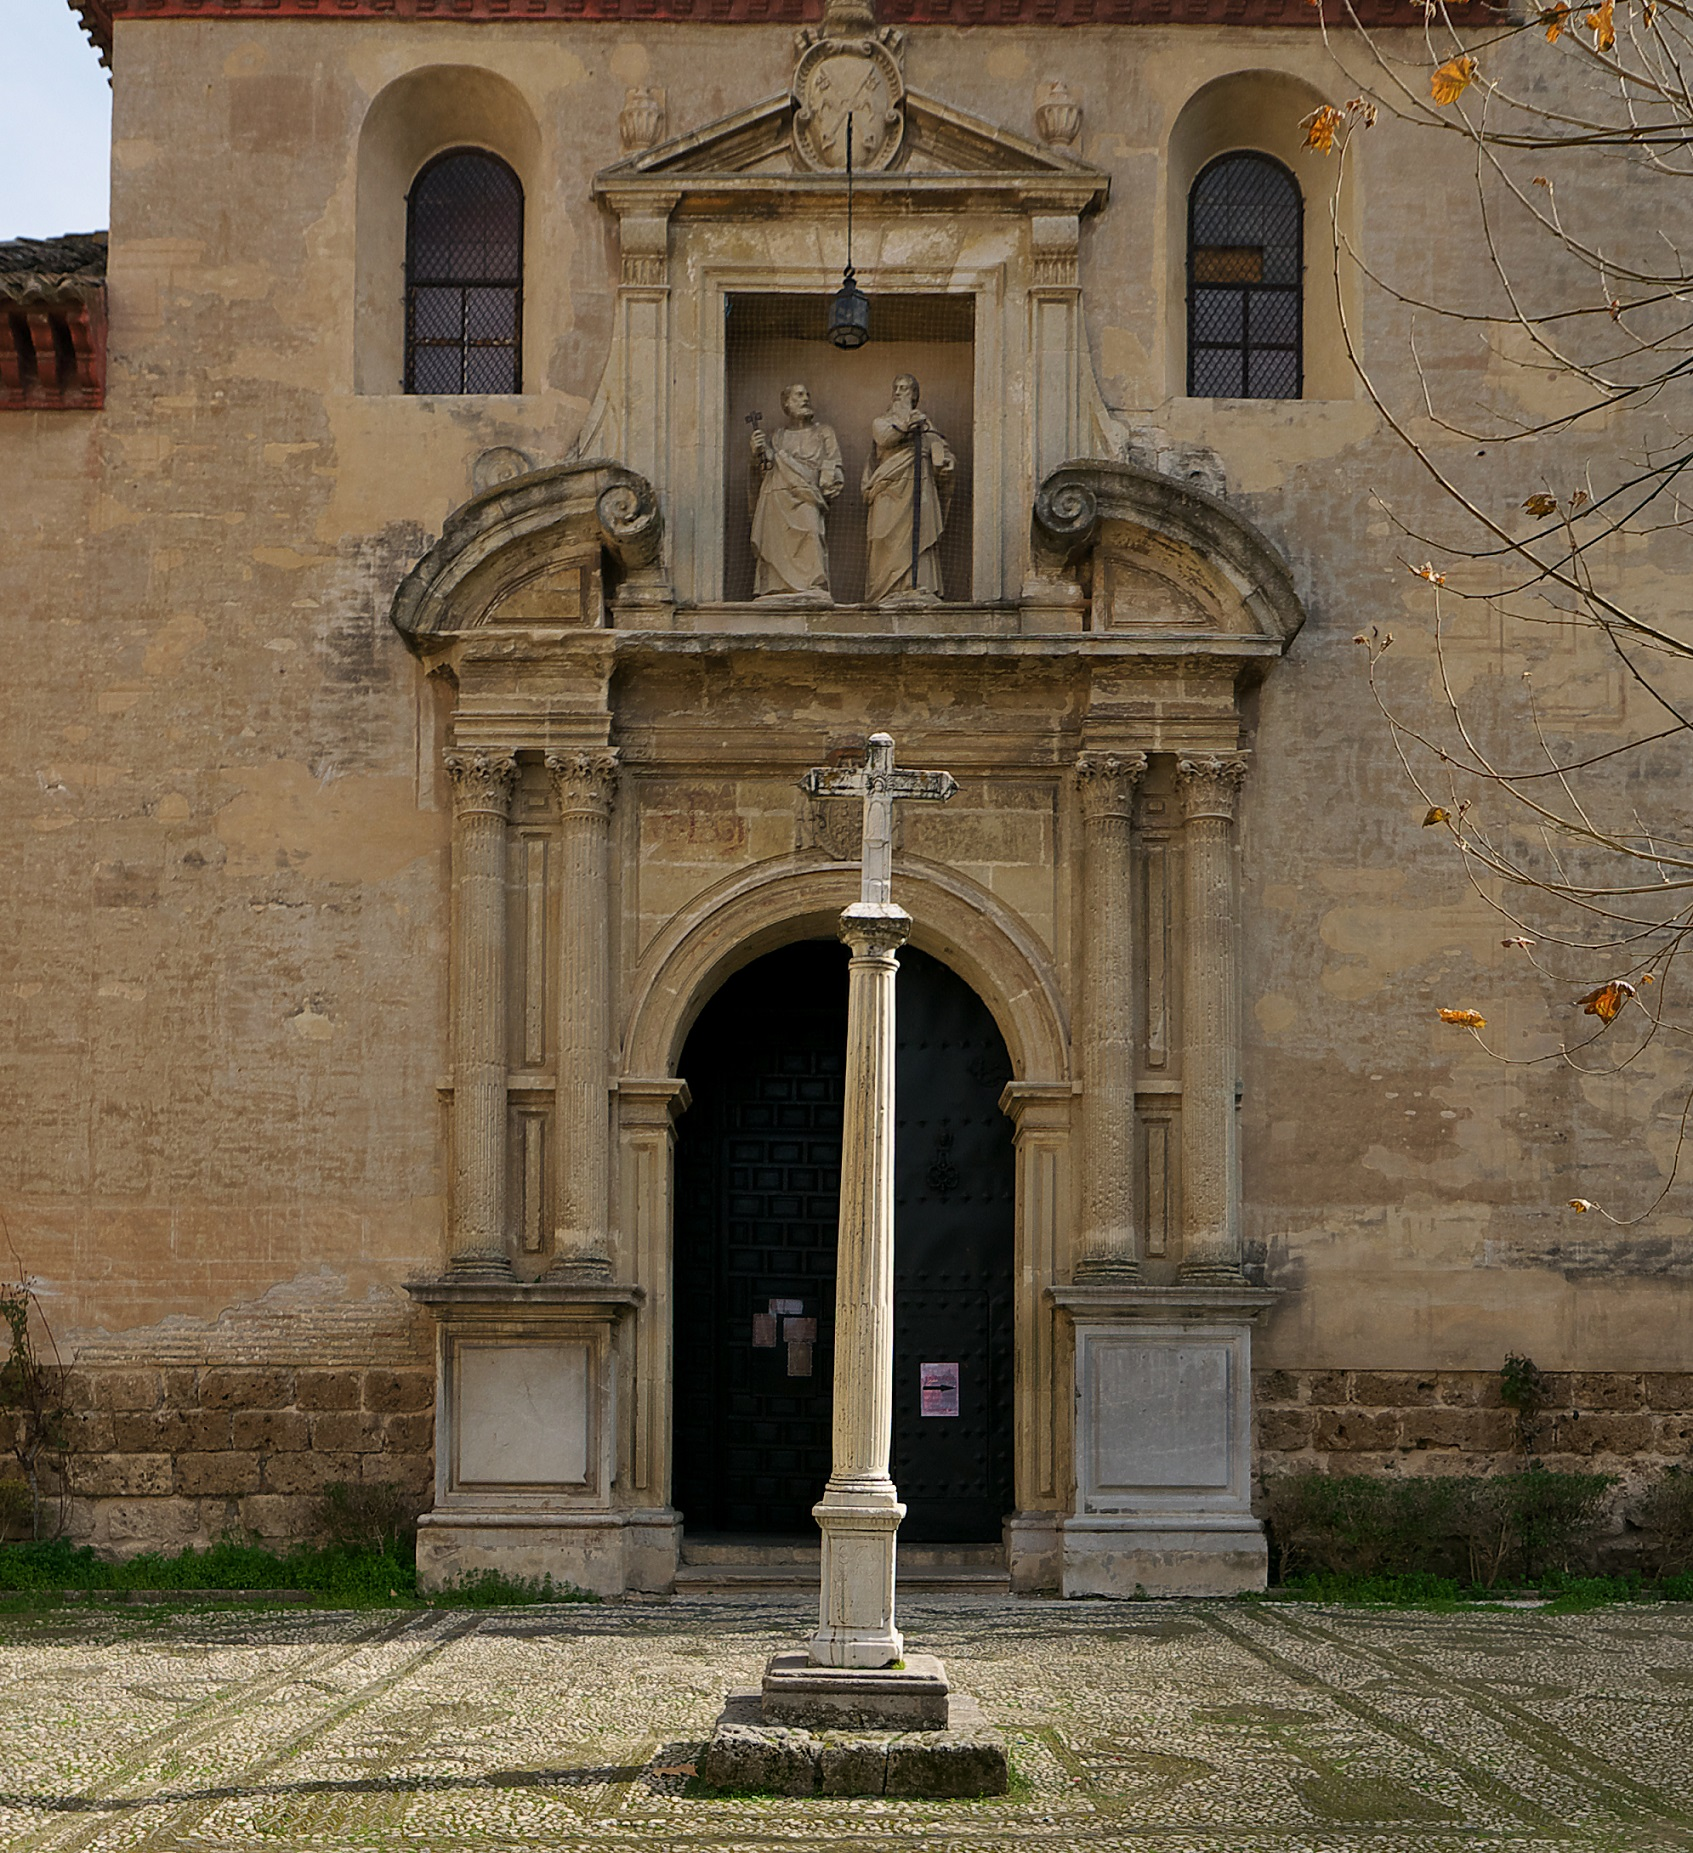arco-medio-punto: (652, 897, 1056, 1151)
fronton-partido: (370, 439, 1317, 676), (583, 79, 1117, 215)
vano-adintelado: (683, 252, 996, 609)
